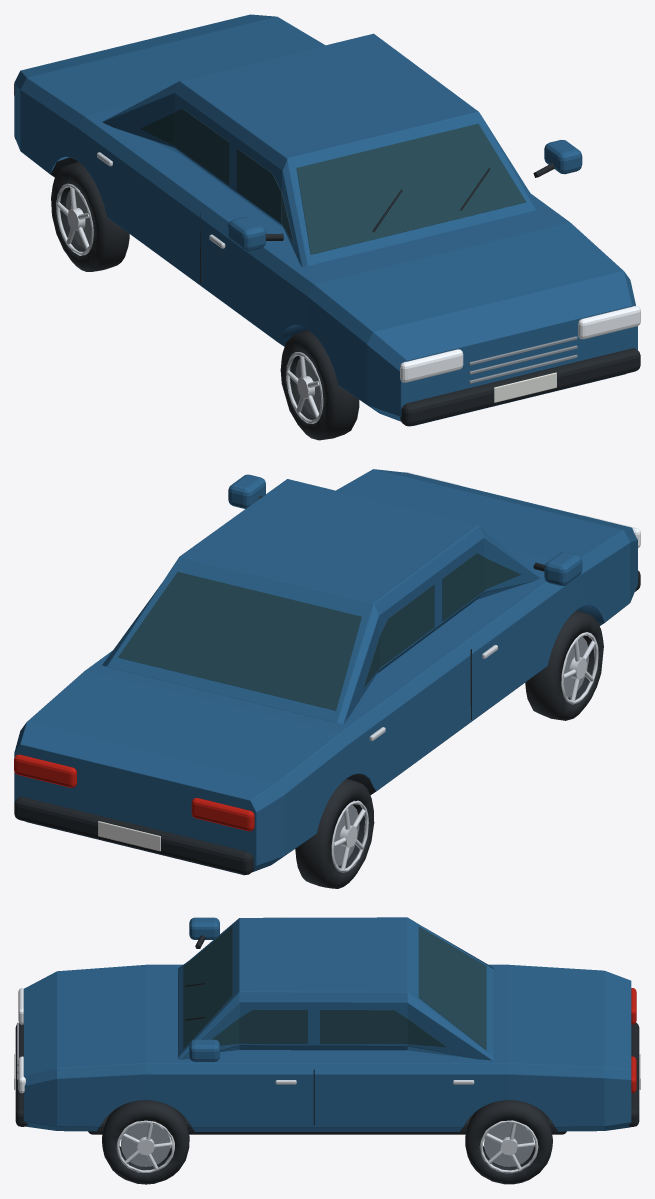
File: sedan.glb
3 views of the same model, one above another, from view 1: azimuth 30°, elevation 25°; view 2: azimuth 150°, elevation 25°; view 3: azimuth 270°, elevation 25° (orthographic). The views are drawn at different scales.
Parts seen in each view (by area): view 1: Coachwork lower body, Cab and roof, Front side glass, Front_tire, Bumper, Door handle, Headlamp, Front_brake, Blank registration panel; view 2: Coachwork lower body, Cab and roof, Front side glass, Front_tire, Bumper, Door handle, Tail lamp, Front_brake, Blank registration panel; view 3: Coachwork lower body, Cab and roof, Front side glass, Front_tire, Bumper, Front_brake, Door handle, Headlamp, Tail lamp.
Boxes of the visible parts, <box> form: Coachwork lower body: <box>14,14,637,425</box>; Cab and roof: <box>102,33,540,267</box>; Front side glass: <box>140,108,525,254</box>; Front_tire: <box>51,161,359,440</box>; Bumper: <box>15,138,640,426</box>; Door handle: <box>56,152,323,423</box>; Headlamp: <box>400,306,640,382</box>; Front_brake: <box>66,190,577,416</box>; Blank registration panel: <box>494,372,556,402</box>; Coachwork lower body: <box>14,469,637,875</box>; Cab and roof: <box>102,479,540,723</box>; Front side glass: <box>118,553,521,710</box>; Front_tire: <box>295,610,603,888</box>; Bumper: <box>14,496,640,874</box>; Door handle: <box>331,632,598,872</box>; Tail lamp: <box>14,754,254,831</box>; Front_brake: <box>333,637,588,865</box>; Blank registration panel: <box>98,821,160,851</box>; Coachwork lower body: <box>23,917,631,1131</box>; Cab and roof: <box>178,917,494,1060</box>; Front side glass: <box>183,925,486,1049</box>; Front_tire: <box>102,1100,552,1184</box>; Bumper: <box>15,935,639,1134</box>; Front_brake: <box>17,1022,533,1166</box>; Door handle: <box>116,1080,538,1173</box>; Headlamp: <box>18,988,25,1093</box>; Tail lamp: <box>631,988,636,1093</box>.
Size of the model in its own units: 2.32 by 1.48 by 4.7.
